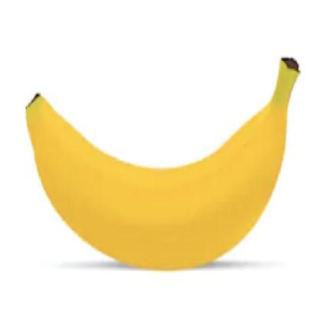banana: (22, 88, 290, 270)
